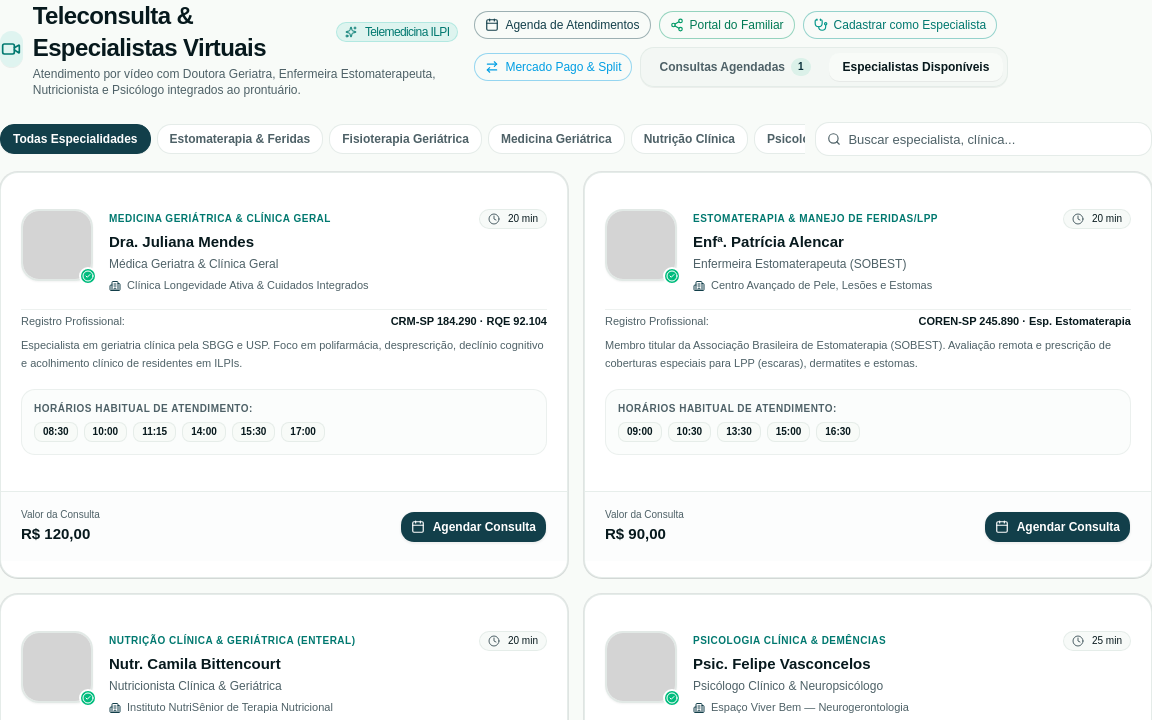
it: Teleconsulta Page › exibe autorização da clínica e responsável familiar no modal quando aberto pelo responsável financeiro / RT
Click the button "Agendar Consulta" in the row of "R$ 120,00" at coordinates (473, 527), box top-left (400, 511), bottom-right (547, 543)
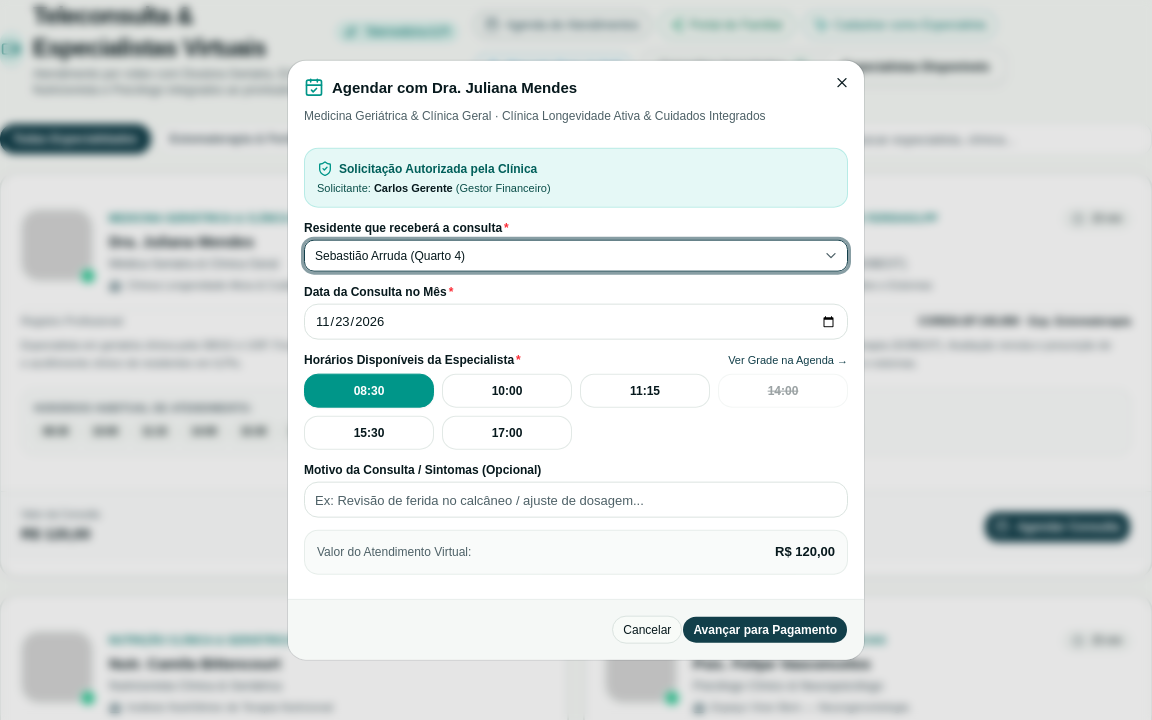
Expected: the text "Solicitação Autorizada pela Clínica" is shown, top-left (339, 160), bottom-right (537, 176)
Expected: the text "Carlos Gerente" is shown, top-left (374, 181), bottom-right (453, 193)
Expected: the text "Solicitante: Carlos Gerente (Gestor Financeiro)" is shown, top-left (317, 181), bottom-right (551, 193)
